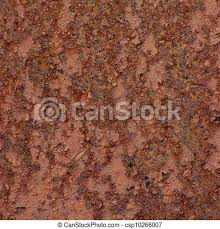rust: (1, 1, 219, 221)
